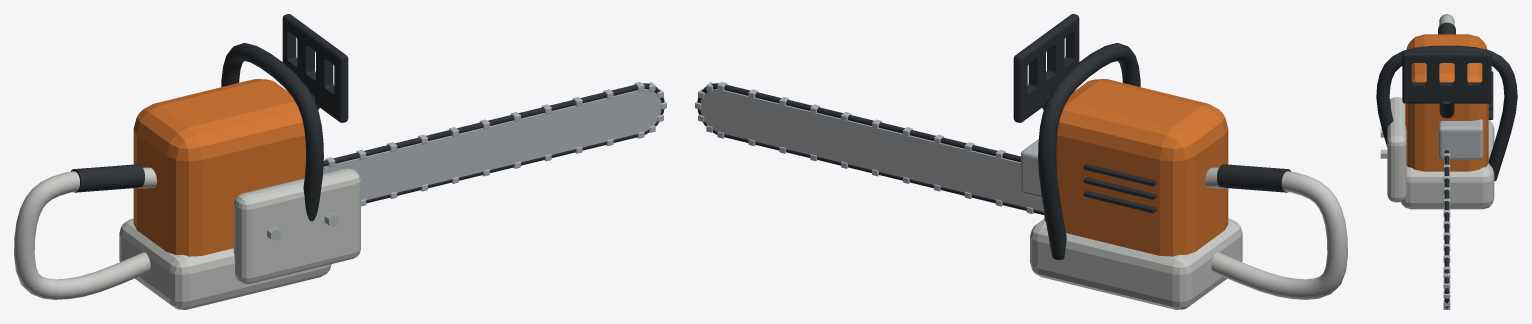
The model's file is A-NEW-20261026-CHAINSAW-001_LOD1_R2.glb.
The picture shows the model from 3 angles, left to right: view 1: azimuth 30°, elevation 25°; view 2: azimuth 150°, elevation 25°; view 3: azimuth 270°, elevation 25°; orthographic projection. The views are drawn at different scales.
Visible parts, largest first — view 1: engine outer housing, rounded guide bar, side sprocket cover, lower chassis, rear loop handle, slotted upright handguard, arched front grip, continuous dark chain, rear dark top grip; view 2: engine outer housing, rounded guide bar, lower chassis, rear loop handle, arched front grip, slotted upright handguard, continuous dark chain, rear dark top grip, muffler-like outer box, external vent fin.001, external vent fin.002, external vent fin; view 3: engine outer housing, slotted upright handguard, lower chassis, arched front grip, side sprocket cover, muffler-like outer box, continuous dark chain, handguard root, rear dark top grip, rear loop handle, rounded guide bar.
Part boxes in pixels (box(x1,y1,x2,y2)): engine outer housing: box(133, 79, 305, 256); rounded guide bar: box(323, 89, 661, 200); side sprocket cover: box(233, 168, 360, 283); lower chassis: box(119, 218, 331, 309); rear loop handle: box(14, 167, 156, 299); slotted upright handguard: box(282, 14, 348, 122); arched front grip: box(221, 43, 323, 221); continuous dark chain: box(323, 83, 664, 203); rear dark top grip: box(71, 164, 144, 192); engine outer housing: box(1044, 79, 1228, 256); rounded guide bar: box(700, 89, 1044, 211); lower chassis: box(1030, 218, 1242, 309); rear loop handle: box(1205, 167, 1347, 299); arched front grip: box(1038, 43, 1140, 259); slotted upright handguard: box(1013, 14, 1079, 122); continuous dark chain: box(697, 83, 1044, 214); rear dark top grip: box(1217, 164, 1290, 192); muffler-like outer box: box(1021, 139, 1041, 198); external vent fin.001: box(1083, 177, 1156, 199); external vent fin.002: box(1083, 164, 1156, 186); external vent fin: box(1083, 191, 1156, 213); engine outer housing: box(1405, 34, 1488, 171); slotted upright handguard: box(1402, 52, 1491, 103); lower chassis: box(1401, 120, 1494, 209); arched front grip: box(1376, 45, 1517, 181); side sprocket cover: box(1387, 97, 1406, 202); muffler-like outer box: box(1438, 119, 1483, 159); continuous dark chain: box(1444, 150, 1449, 308); handguard root: box(1439, 101, 1454, 118); rear dark top grip: box(1438, 22, 1455, 34); rear loop handle: box(1439, 14, 1454, 25); rounded guide bar: box(1444, 159, 1449, 300).
Bounding box in the file's own units: 1.01 × 0.325 × 0.254.
